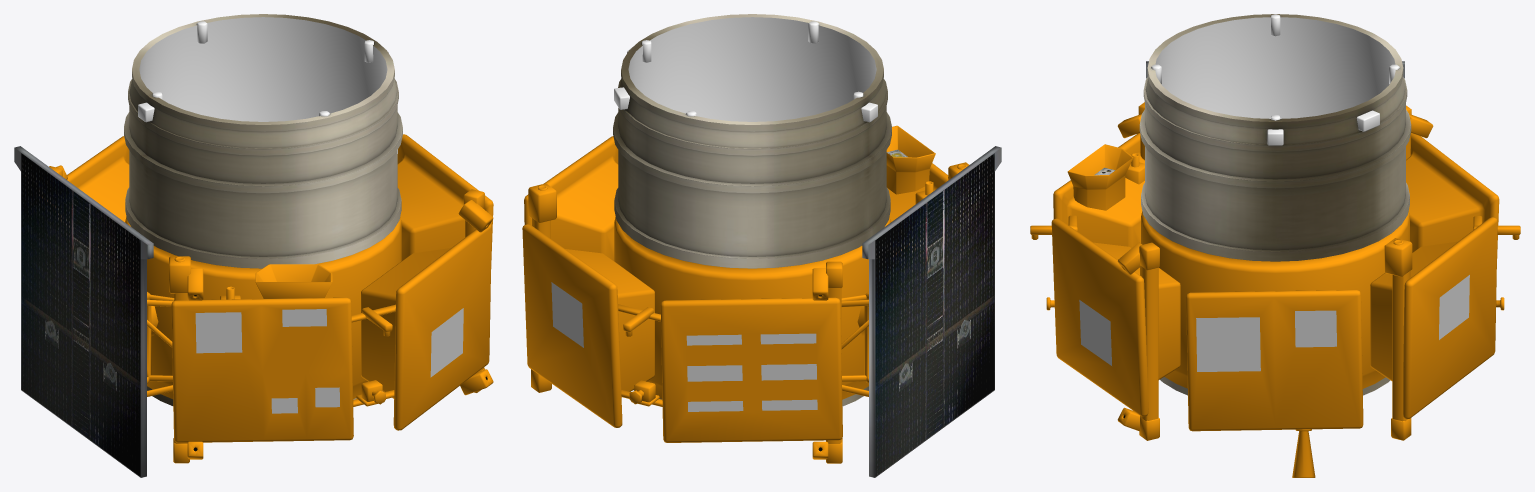
The model's file is lcross.glb.
3 views of the same model, side by side, from view 1: azimuth 30°, elevation 25°; view 2: azimuth 150°, elevation 25°; view 3: azimuth 270°, elevation 25° (orthographic). The views are drawn at different scales.
Parts seen in each view (by area): view 1: BUS, BUS_brass, Array, reflectors; view 2: BUS, BUS_brass, Array, reflectors, foil_boxes; view 3: BUS, BUS_brass, reflectors, star_tracker, foil_boxes.
Boxes of the visible parts, x1,y1,x2,y2 form: BUS: (49, 17, 493, 463); BUS_brass: (124, 14, 402, 405); Array: (14, 146, 153, 477); reflectors: (195, 308, 463, 413); BUS: (522, 17, 968, 463); BUS_brass: (613, 14, 907, 406); Array: (862, 146, 1001, 477); reflectors: (551, 282, 817, 411); foil_boxes: (614, 48, 877, 122); BUS: (1030, 14, 1520, 440); BUS_brass: (1094, 14, 1411, 395); reflectors: (1079, 275, 1469, 371); star_tracker: (1292, 429, 1315, 477); foil_boxes: (1267, 110, 1379, 145).
Bounding box in the file's own units: 3.06 × 2.67 × 3.6.
8 materials, 2 textured.
